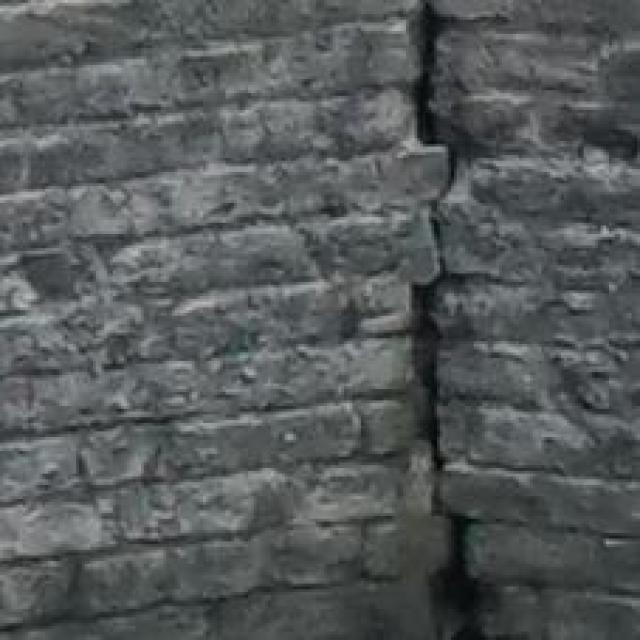Crack: (341, 0, 522, 640)
